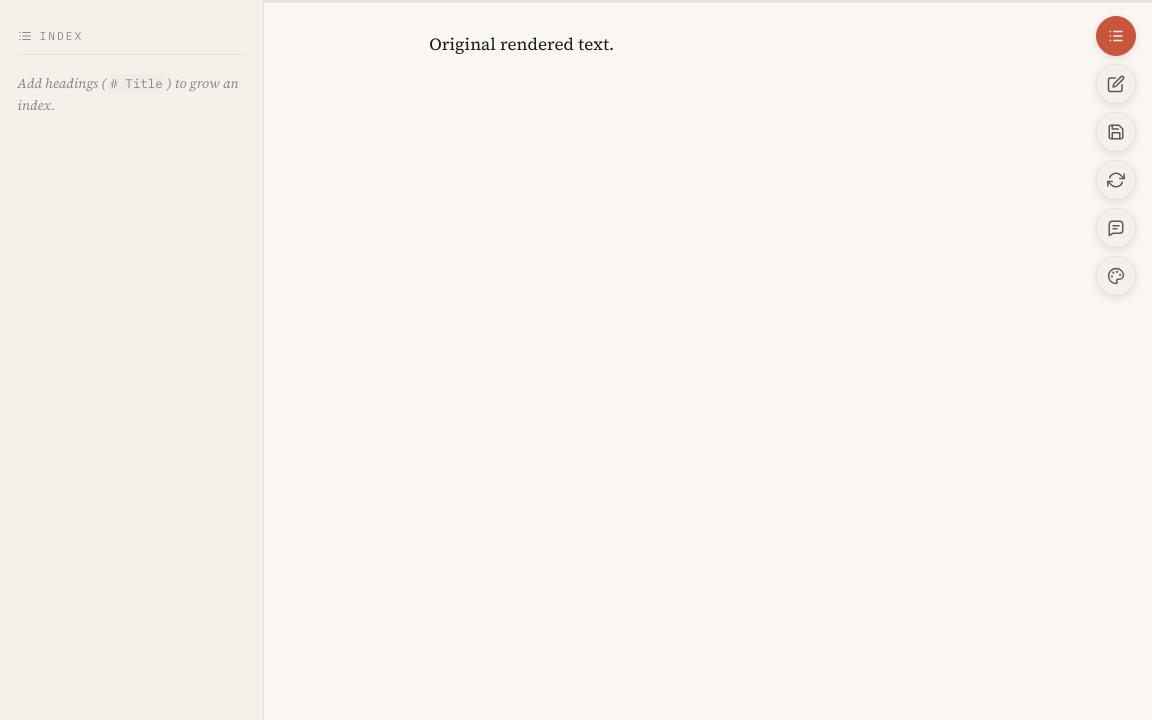
Scenario: App › refreshes rendered text when review work is done
Expected: the text "Original rendered text." is shown, [429,32,614,56]
Click the button named "show comments" at (1116, 228), box [1096,208,1136,248]
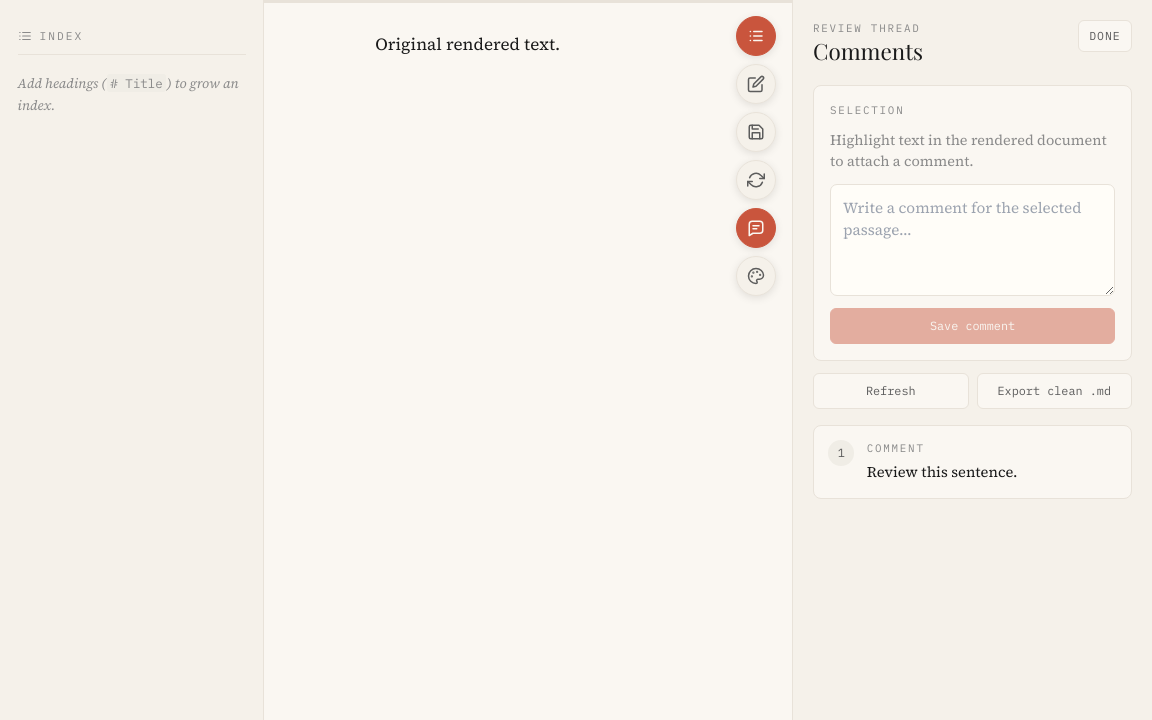
Expected: the element "Comments" is shown, [792,0,1151,719]
Click the button with aria-label "close comments" at (1105, 36), box [1078,20,1132,52]
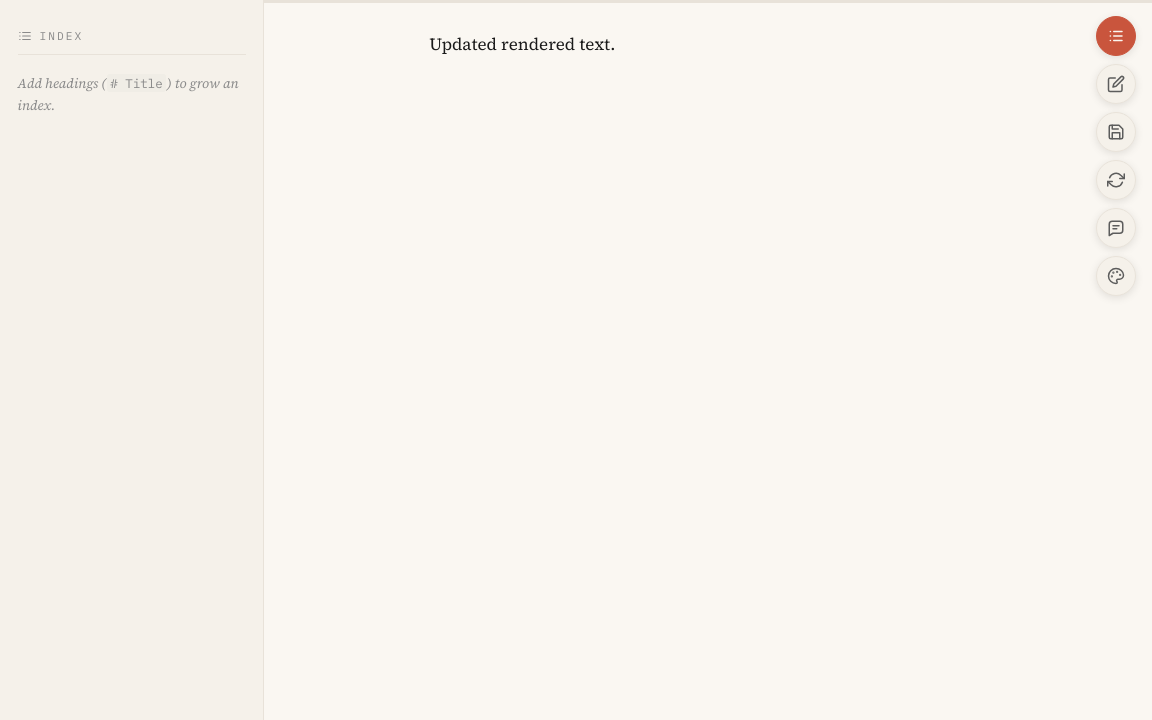
Expected: the text "Updated rendered text." is shown, [429,32,615,56]
Expected: the text "Original rendered text." is gone
